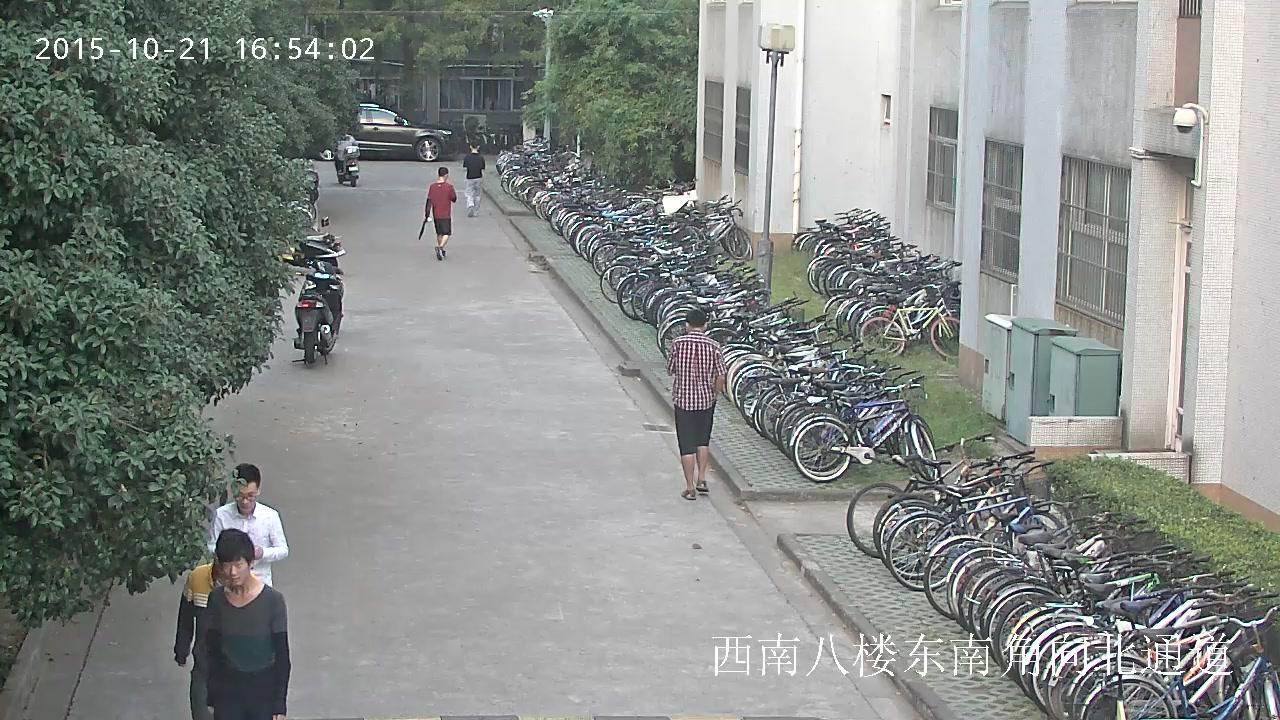face: (234, 481, 256, 513), (224, 558, 246, 586)
